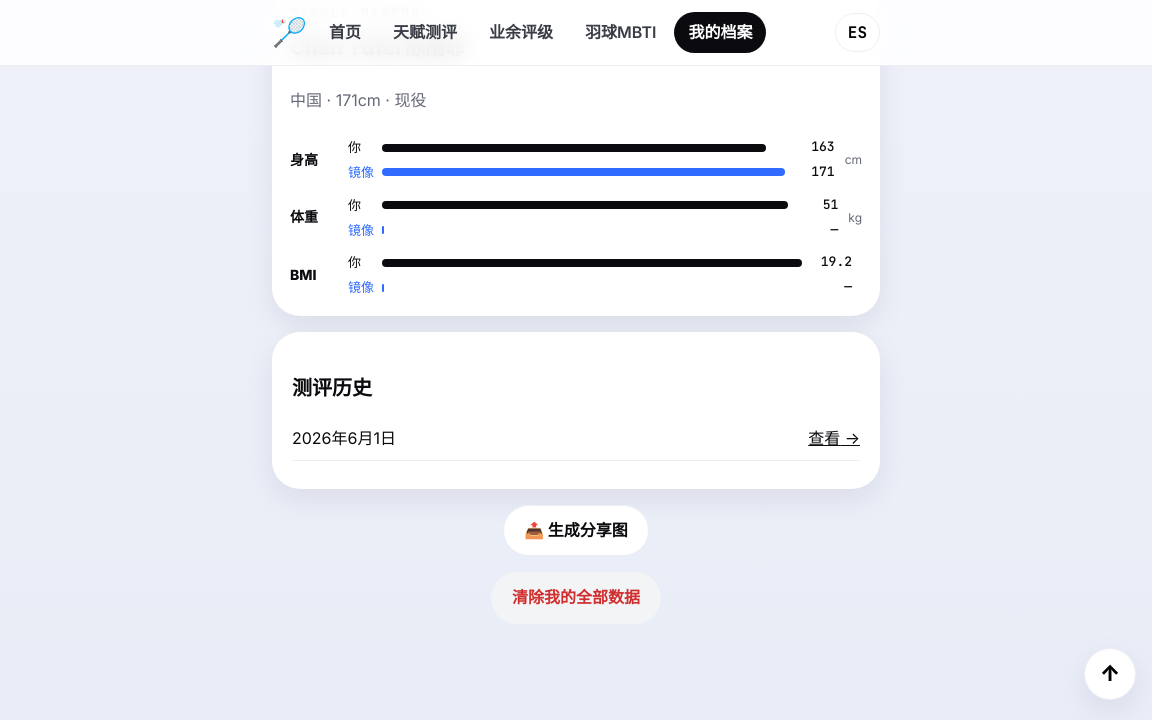
我的档案 › borrar datos pide confirmación
(page scrolled)
Click the button "清除我的全部数据" at point(576, 598), box [491,572,661,624]
(page scrolled)
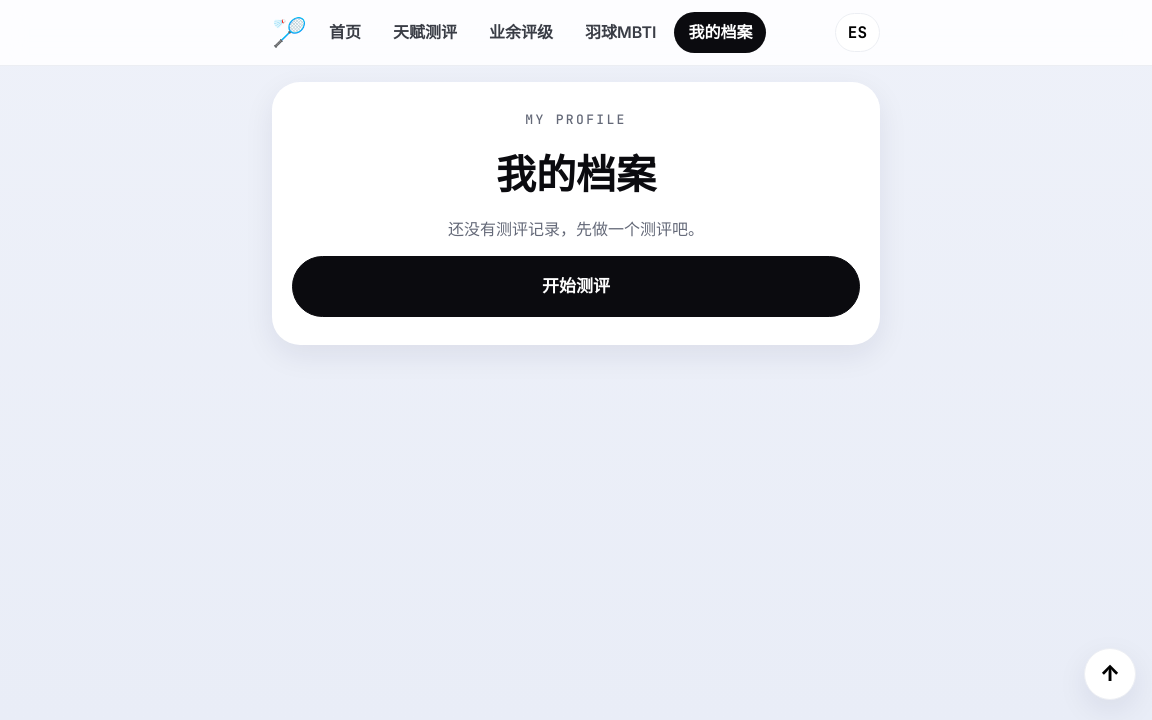
Expected: the text "还没有测评记录，先做一个测评吧。" is shown, [448,219,704,239]
